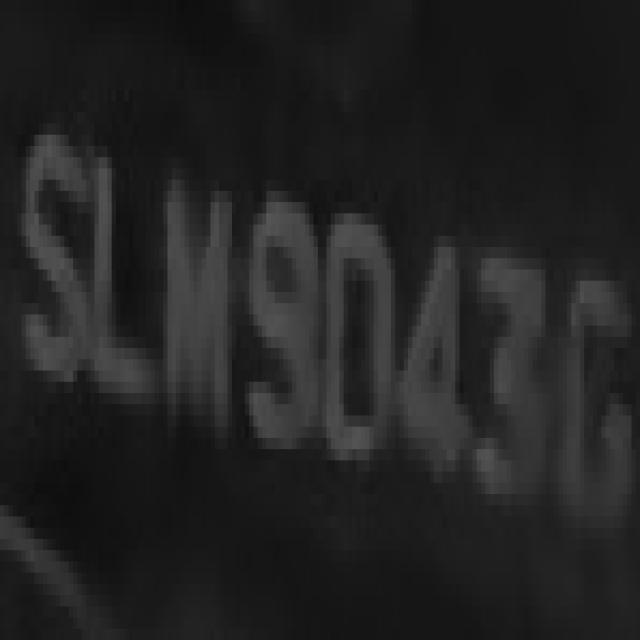0: (322, 146, 395, 516)
3: (485, 202, 554, 562)
4: (404, 202, 485, 550)
9: (253, 157, 318, 528)
G: (571, 213, 640, 573)
L: (86, 79, 159, 472)
M: (163, 146, 245, 472)
S: (30, 90, 86, 460)
